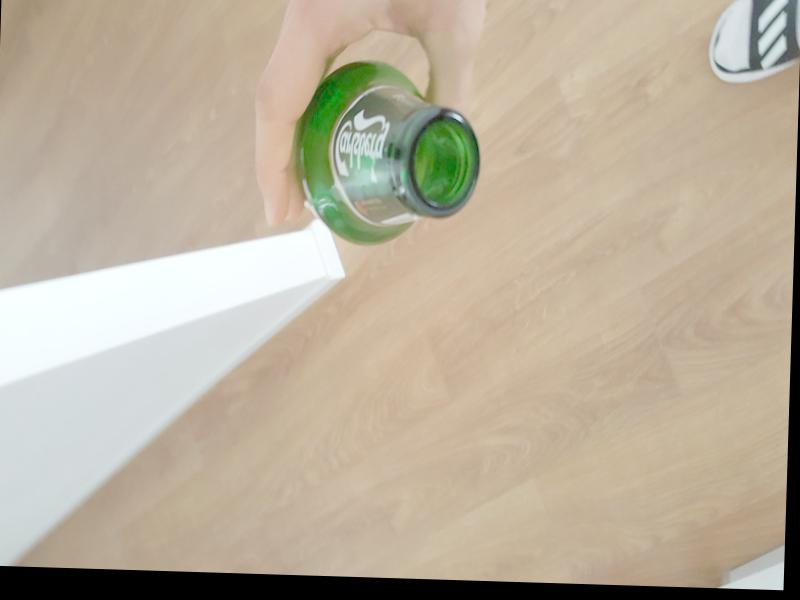Beer: (292, 54, 483, 249)
